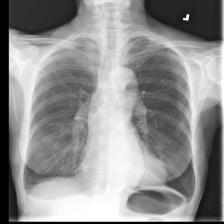normal: (18, 32, 200, 218)
